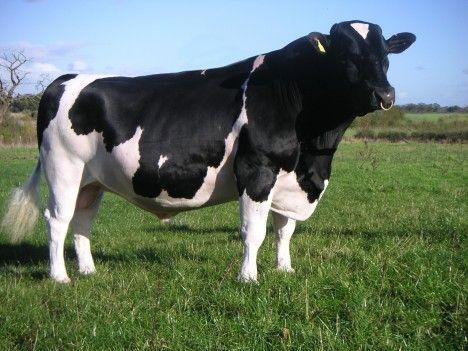cow: (22, 19, 426, 281)
